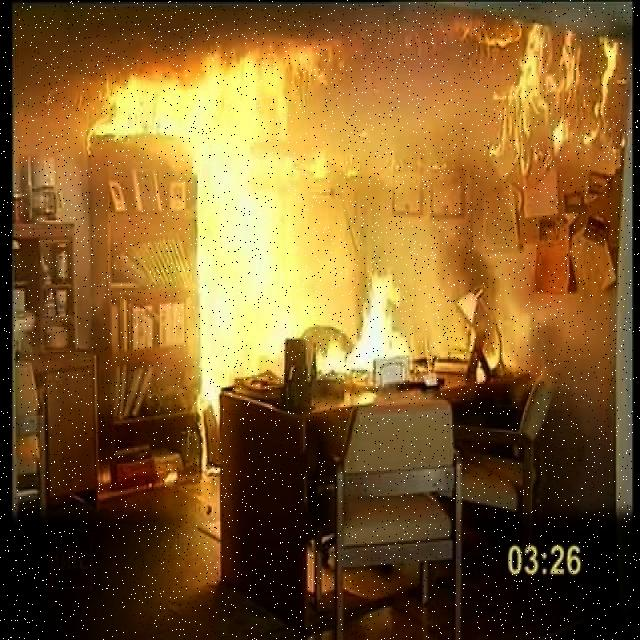fire: (88, 52, 426, 411), (470, 17, 629, 184)
